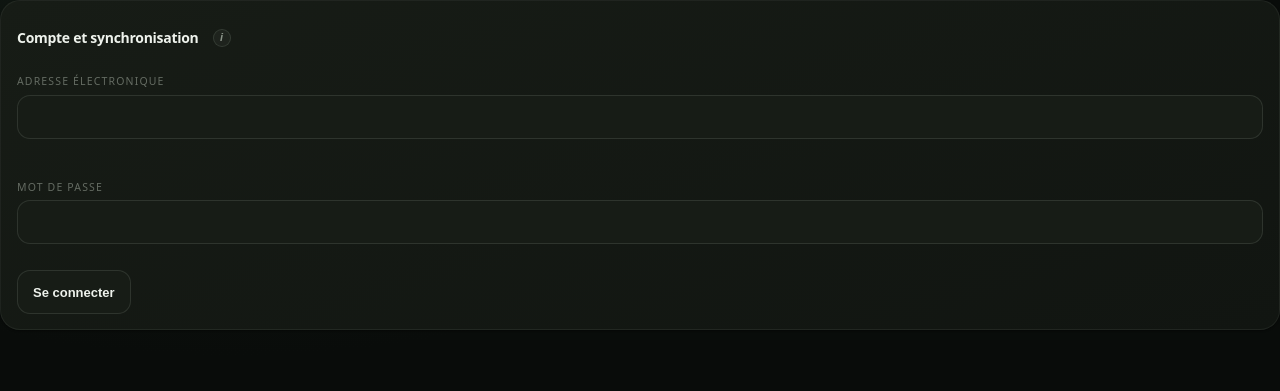
Test case: connexion › dit ce qui ne va pas plutôt que « une erreur est survenue »
Step 1. Type "demo@exemple.test" into the field labelled "Adresse électronique" → (640, 117), box [17, 95, 1263, 139]
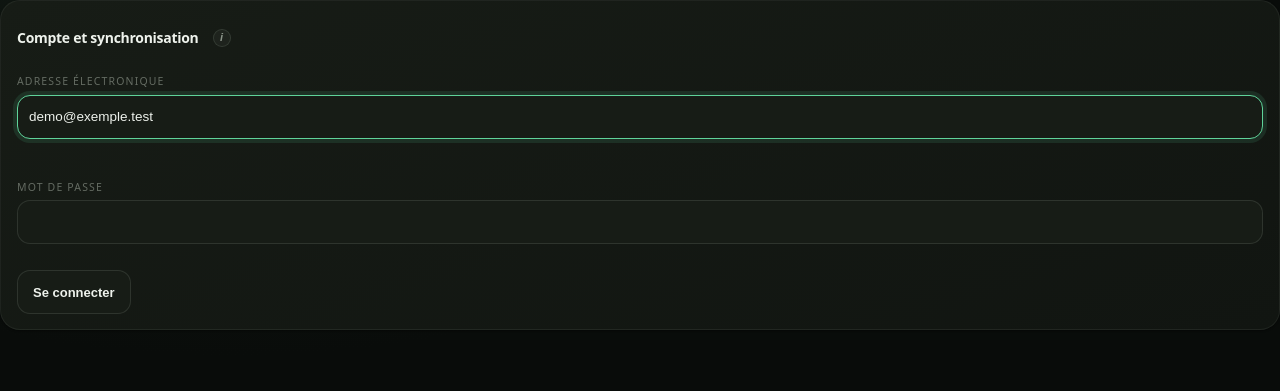
Step 2. Type "motdepasse" into the password field labelled "Mot de passe" → (640, 222), box [17, 200, 1263, 244]
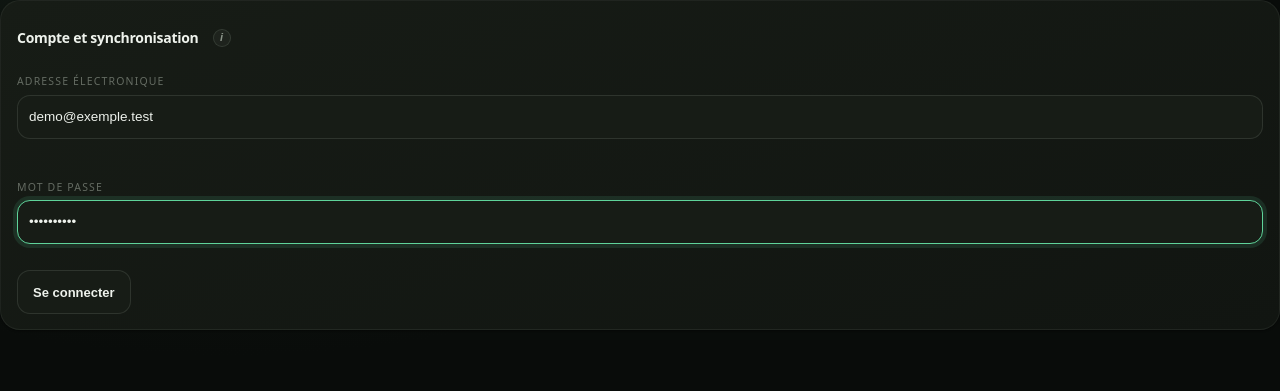
Step 3. Click the button "Se connecter" → (74, 292), box [17, 270, 131, 314]
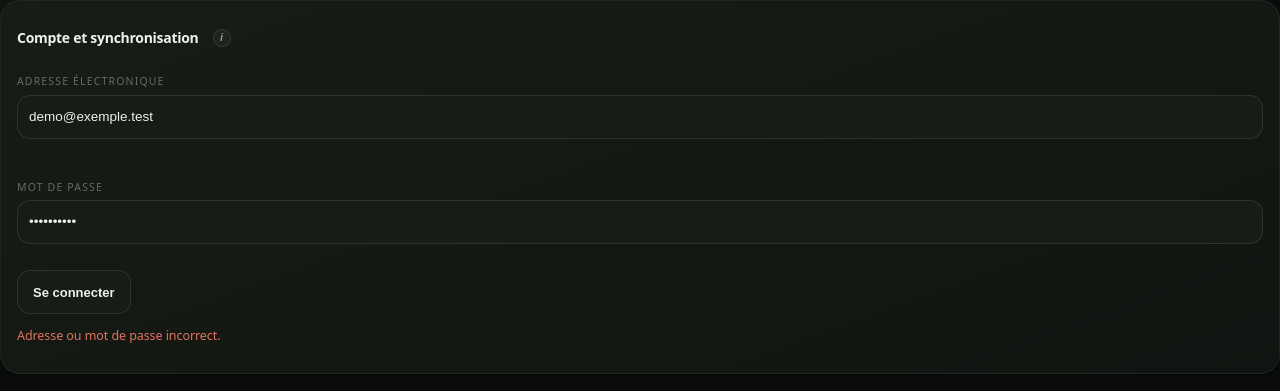
Now the message shows "mot de passe incorrect", box [17, 327, 220, 344]
